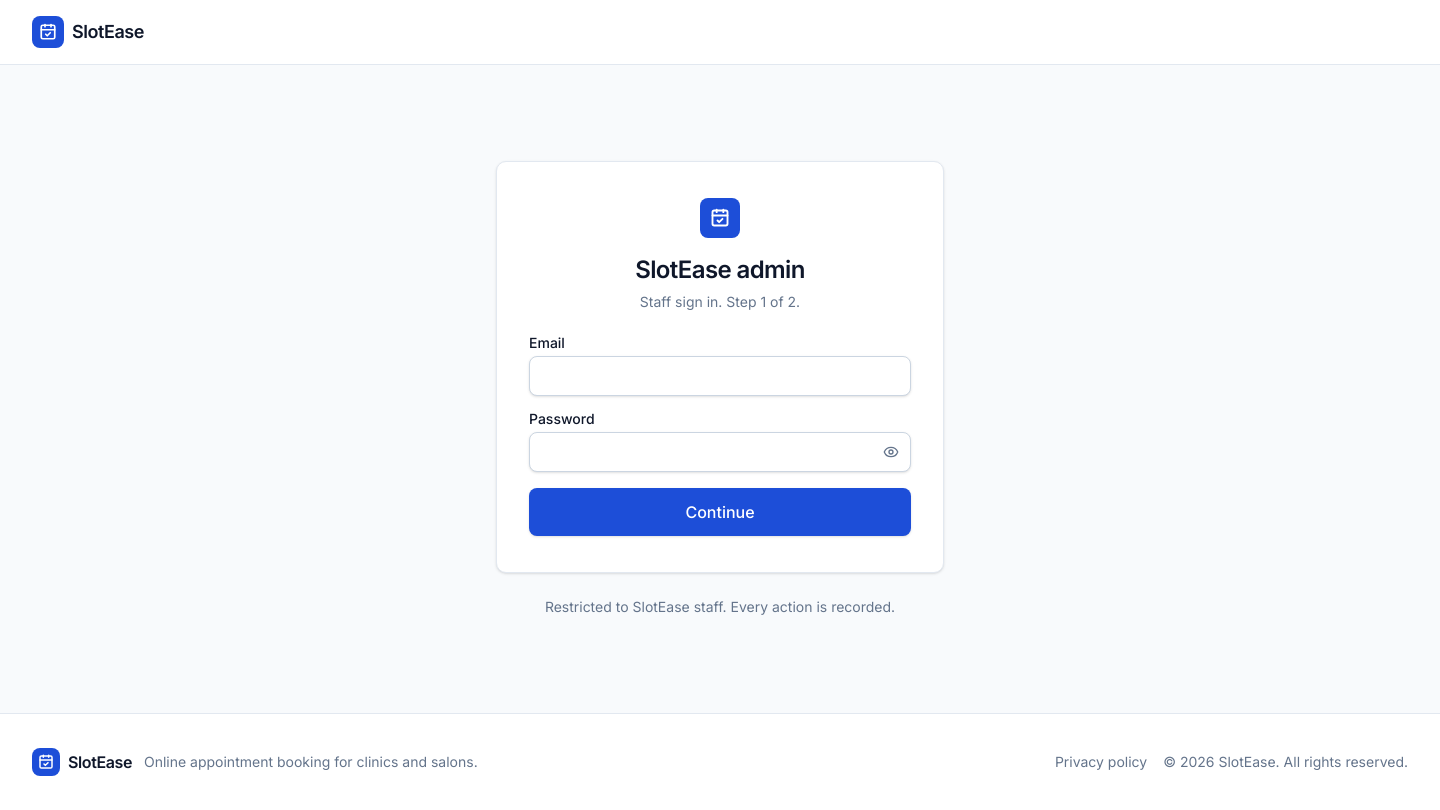
Test: admin sign-in › shows a wrong password
Type "ops@example.com" into the field labelled "Email" at (720, 376), box [529,356,911,396]
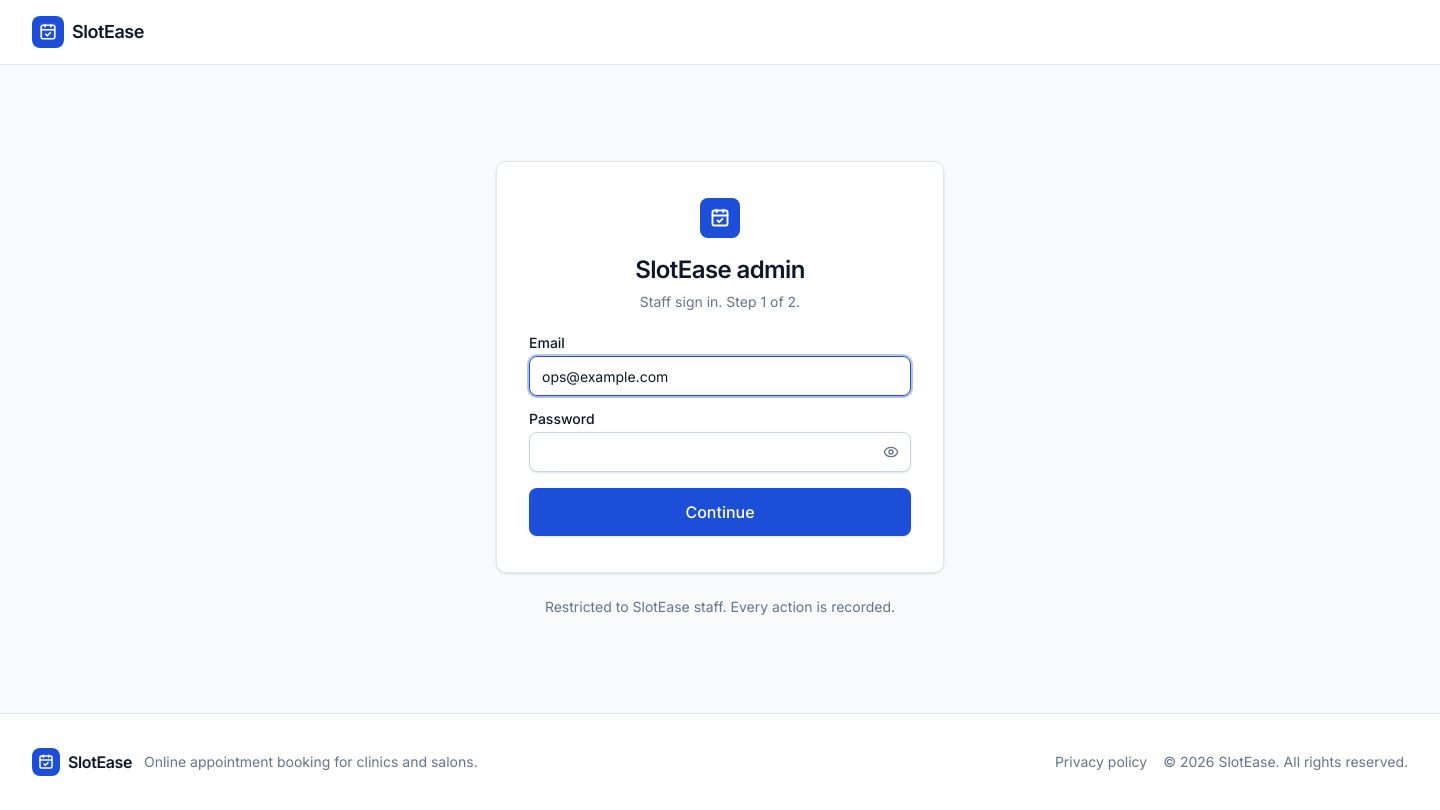
Type "wrong" into the password field labelled "Password" at (720, 452), box [529,432,911,472]
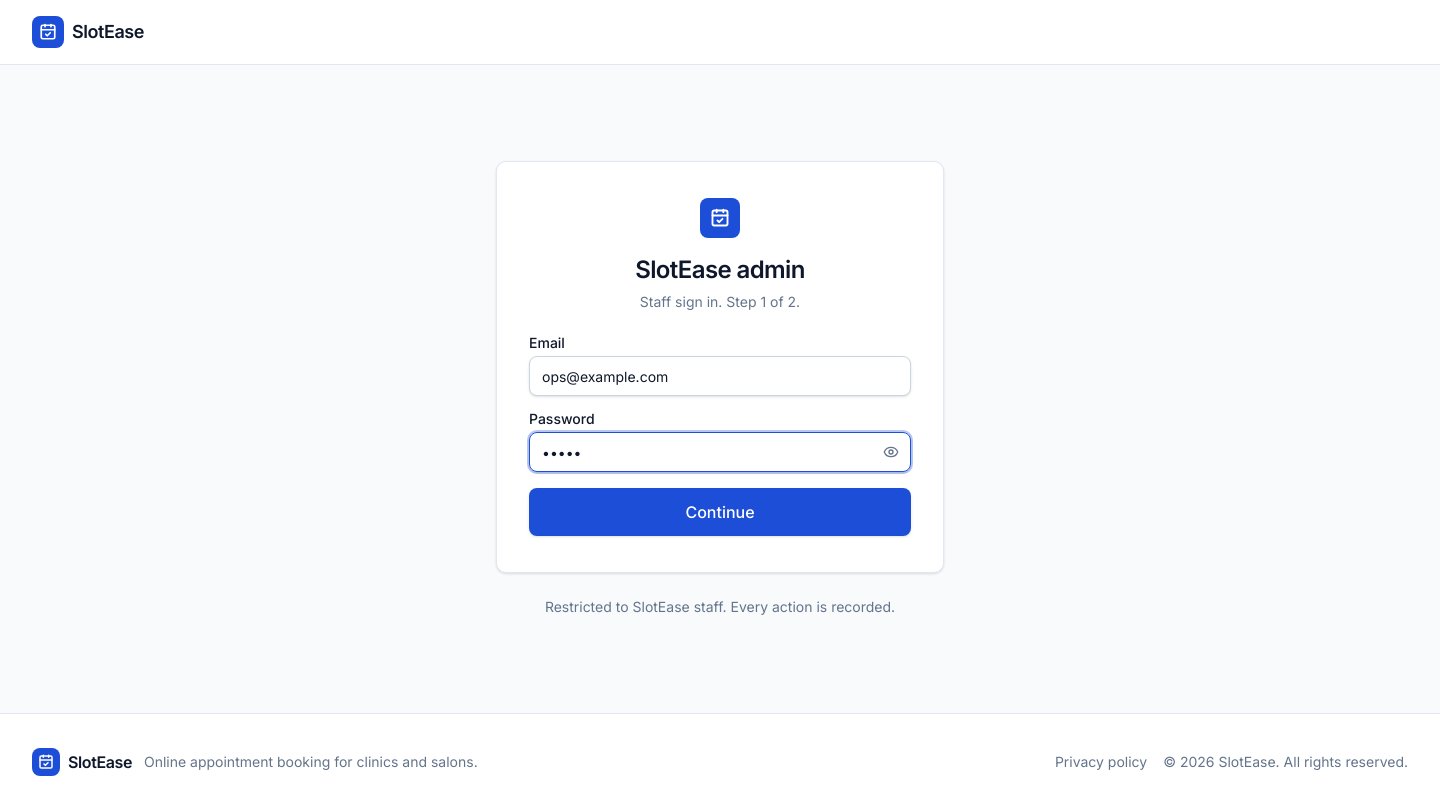
Click the button "Continue" at (720, 512), box [529,488,911,536]
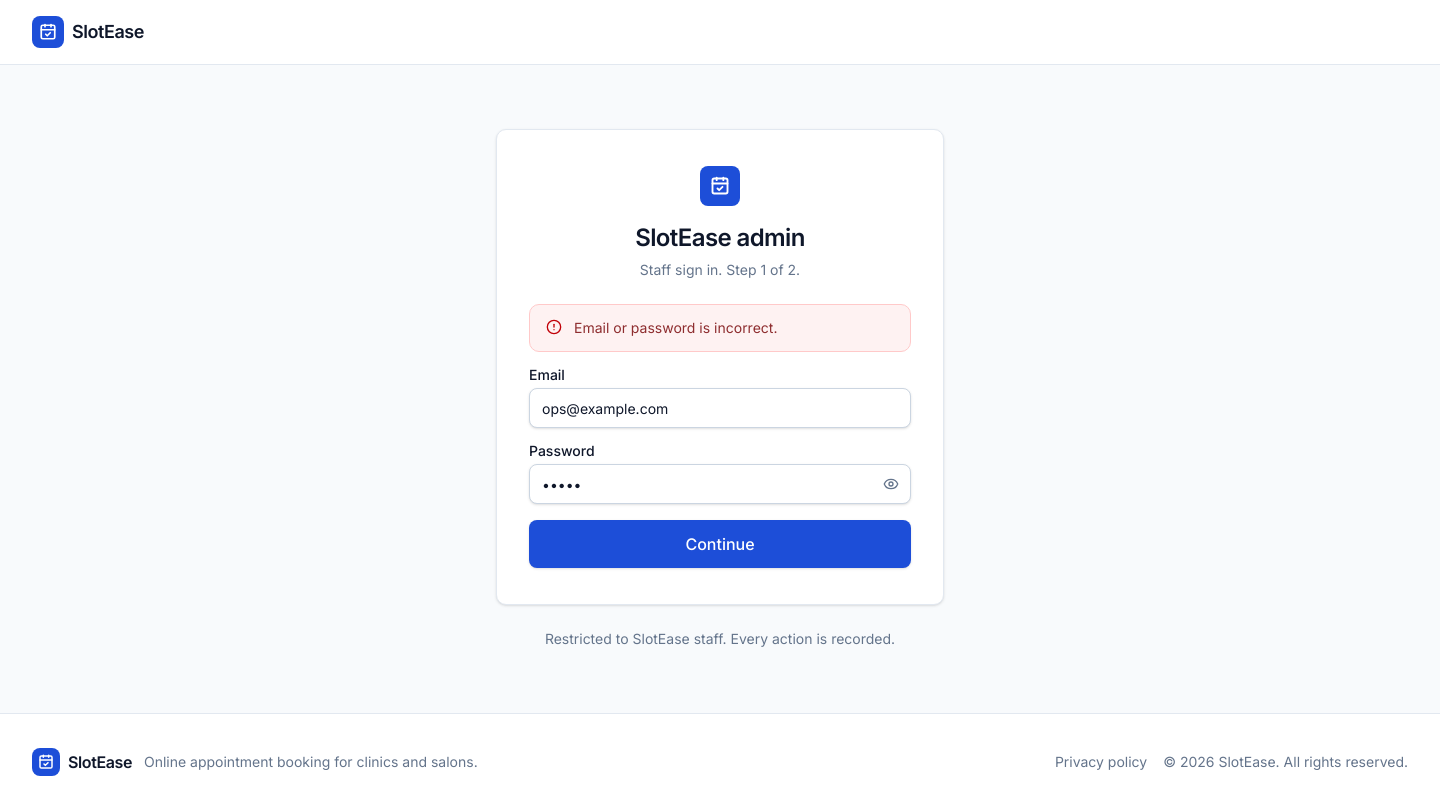
Expected: the text "Email or password is incorrect." is shown, [574,319,777,336]
